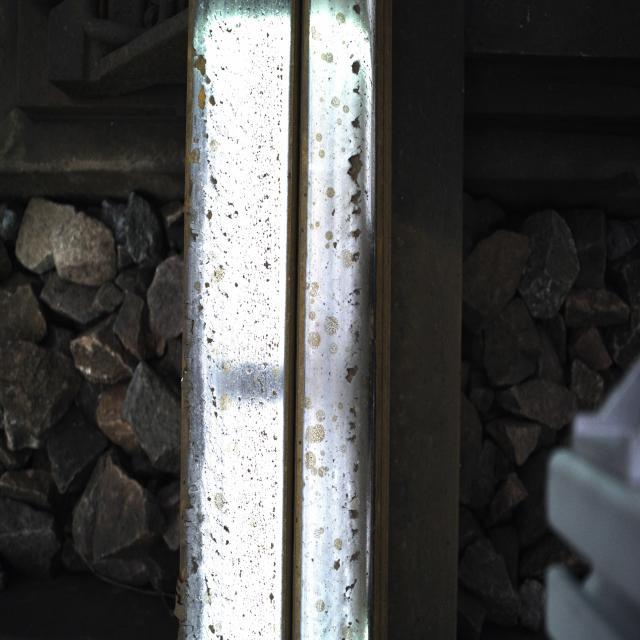scar: (188, 31, 248, 550), (318, 36, 368, 522)
